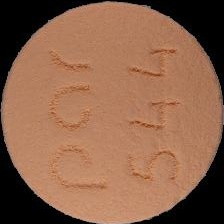53808-0774: (0, 0, 224, 224)
